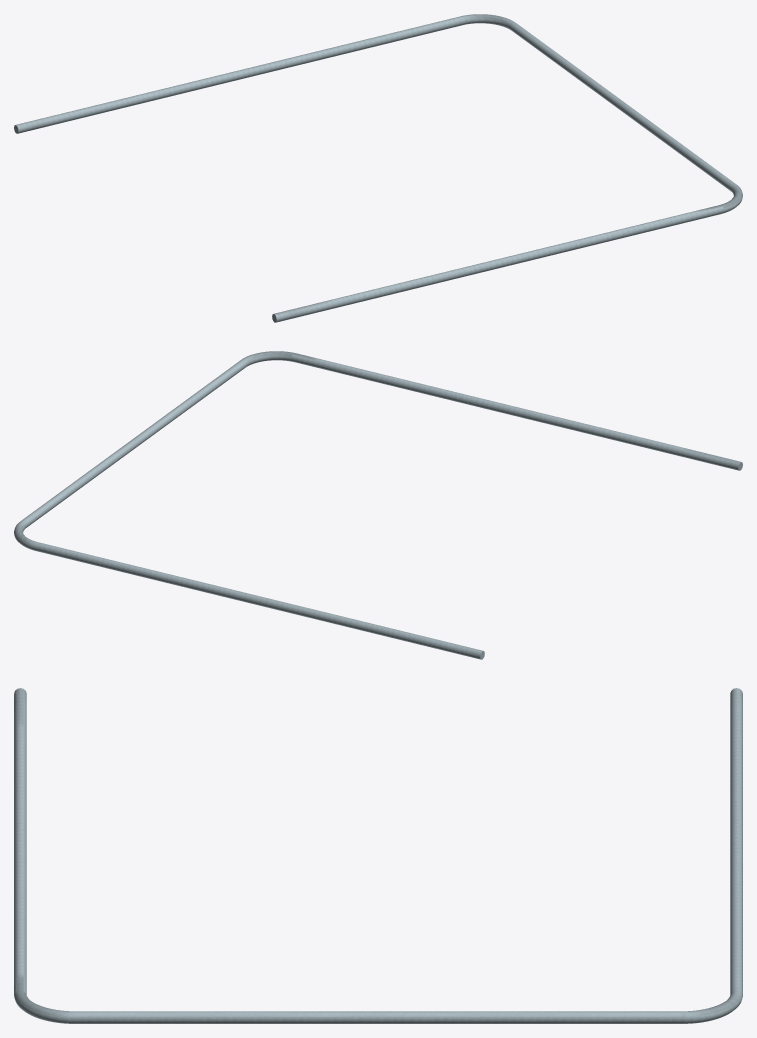
The model's file is 24-rolled-tin-rim-82-2.fbx.
3 views of the same model, one above another, from view 1: azimuth 30°, elevation 25°; view 2: azimuth 150°, elevation 25°; view 3: azimuth 270°, elevation 25° (orthographic). The views are drawn at different scales.
Visible parts, largest first — view 1: rolled-tin-rim-82-2; view 2: rolled-tin-rim-82-2; view 3: rolled-tin-rim-82-2.
Boxes of the visible parts, bbox=[...] form: rolled-tin-rim-82-2: bbox=[14, 14, 742, 322]; rolled-tin-rim-82-2: bbox=[14, 351, 742, 659]; rolled-tin-rim-82-2: bbox=[14, 688, 742, 1023].
Bounding box in the file's own units: 8520 × 140 × 8039.
1 material, 1 textured.
